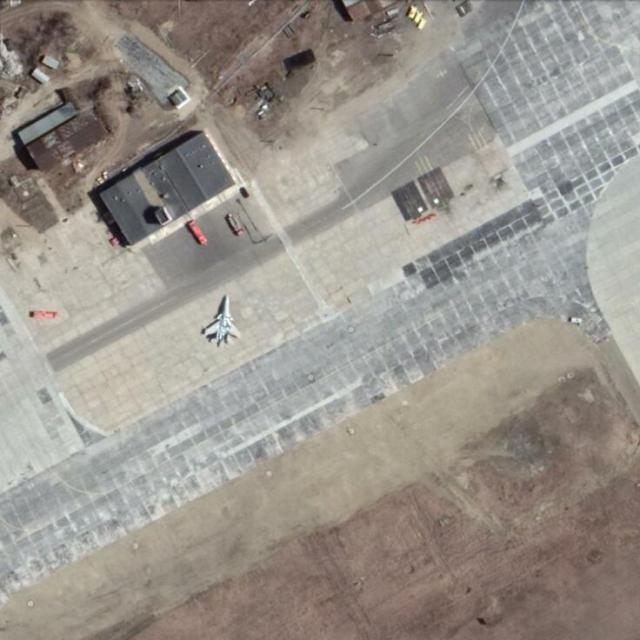fighter jet: (198, 291, 239, 345)
